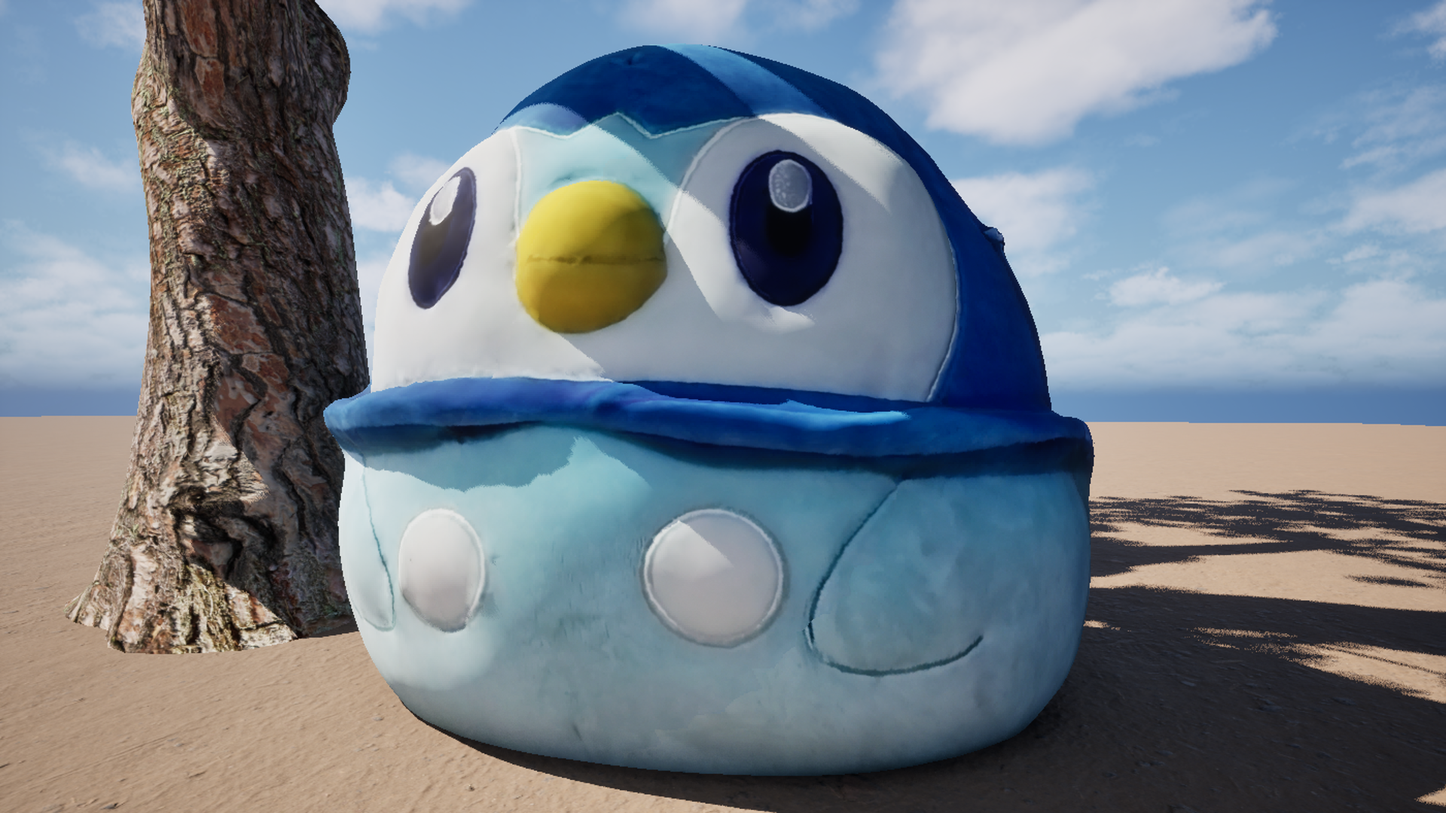Piplup: (189, 0, 1196, 813)
